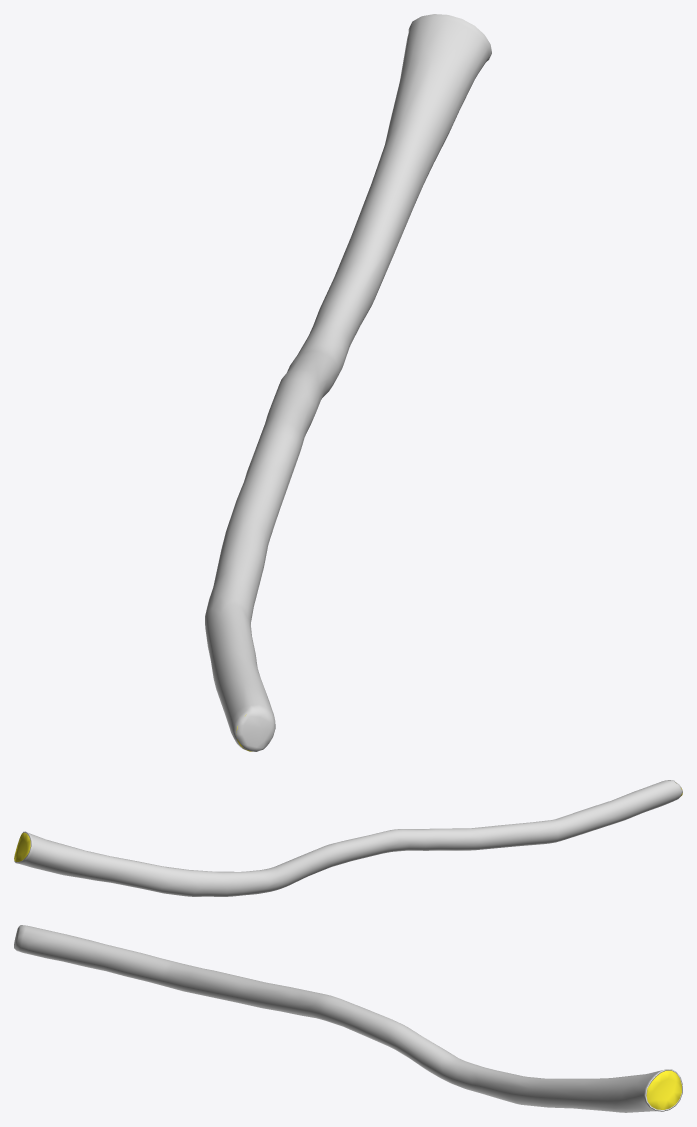
The model's file is optic_nerve_r.glb.
3 renders of one model, top to bottom at view 1: azimuth 30°, elevation 25°; view 2: azimuth 150°, elevation 25°; view 3: azimuth 270°, elevation 25°, orthographic. The views are drawn at different scales.
Visible parts, largest first — view 1: VH_F_dura_mater_right; view 2: VH_F_dura_mater_right, VH_F_right_optic_nerve; view 3: VH_F_dura_mater_right, VH_F_right_optic_nerve.
Boxes of the visible parts, x1,y1,x2,y2 form: VH_F_dura_mater_right: (205,14,491,751); VH_F_dura_mater_right: (14,780,682,896); VH_F_right_optic_nerve: (14,787,682,861); VH_F_dura_mater_right: (14,925,682,1112); VH_F_right_optic_nerve: (646,1070,681,1109).
Size of the model in its own units: 0.0337 by 0.00693 by 0.0421.
